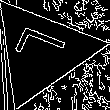L_SE: (10, 27, 73, 76)
